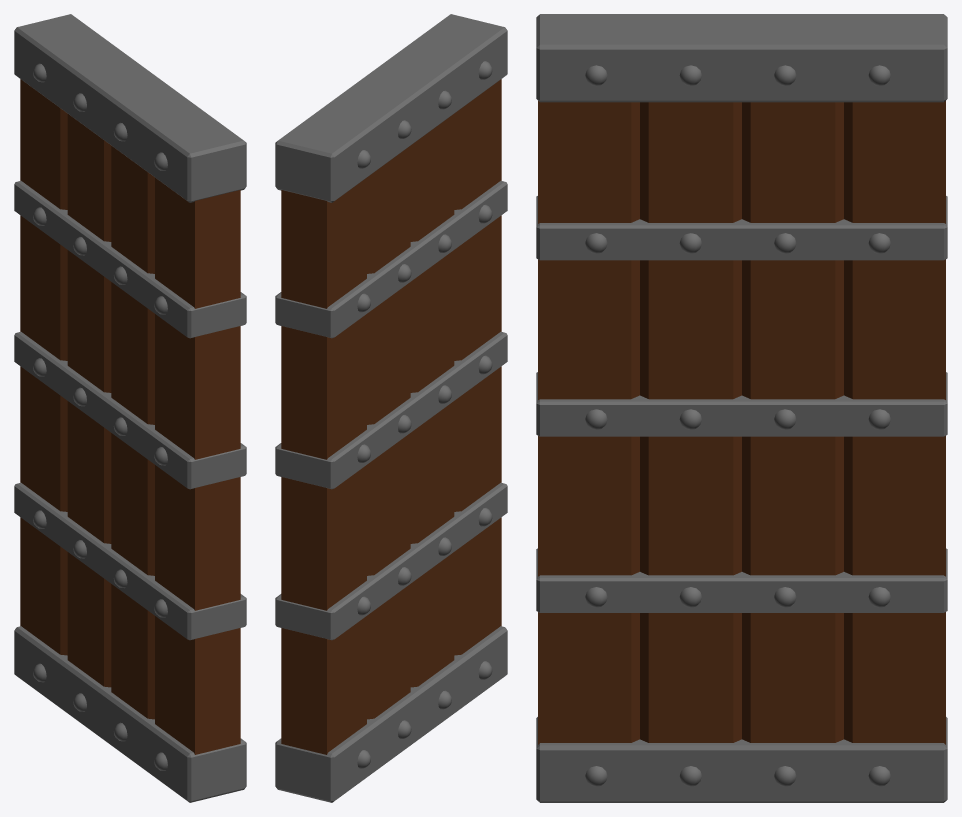
The model's file is Door.fbx.
3 renders of one model, left to right at view 1: azimuth 30°, elevation 25°; view 2: azimuth 150°, elevation 25°; view 3: azimuth 270°, elevation 25°, orthographic. The views are drawn at different scales.
Parts seen in each view (by area): view 1: Object; view 2: Object; view 3: Object.
Boxes of the visible parts, left/top/right/bottom form: Object: left=14, top=14, right=246, bottom=802; Object: left=275, top=14, right=507, bottom=802; Object: left=536, top=14, right=947, bottom=802.
Size of the model in its own units: 24.47 by 205 by 101.
